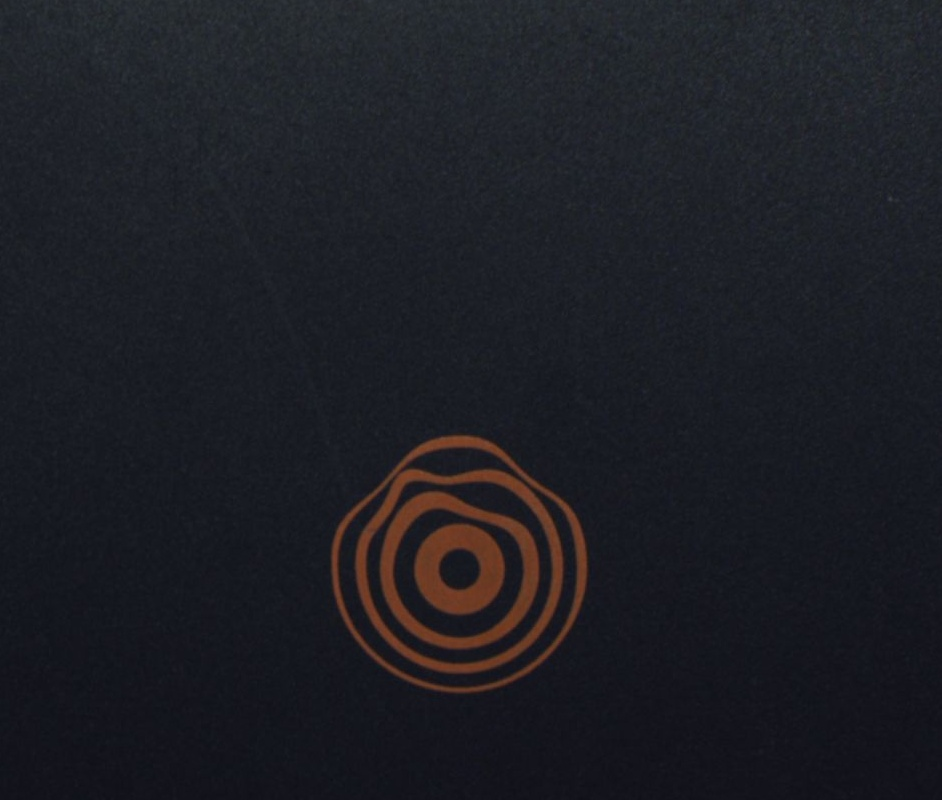BU_HG680GY: (316, 431, 593, 694)
